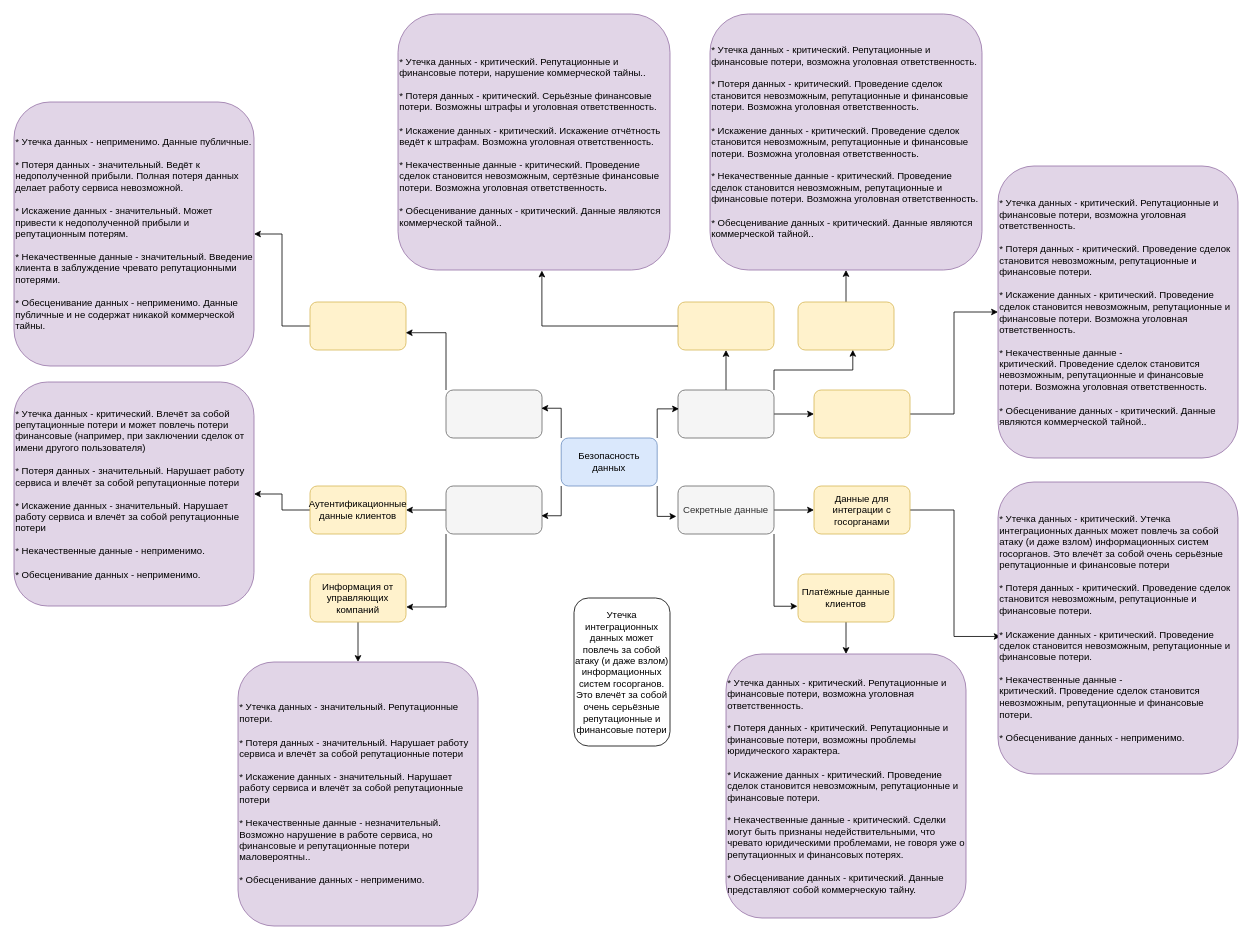
The diagram is 1252 pixels wide and 940 high, and some of its shapes have lost their labels. The centre of each missing label's shape, as x and y in pixels:
Бухгалтерская отчётность: the point at 725,325
Внутренние данные: the point at 493,509
Данные онлайн сделок: the point at 861,413
Каталог недвижимости: the point at 357,325
Конфеденциальные данные: the point at 725,413
Персональные данные собственников: the point at 845,325
Публичные данные: the point at 493,413
